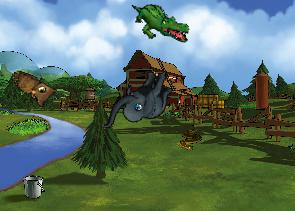crocodile: (129, 2, 191, 43)
elephant: (102, 60, 176, 143)
owl: (5, 69, 58, 110)
